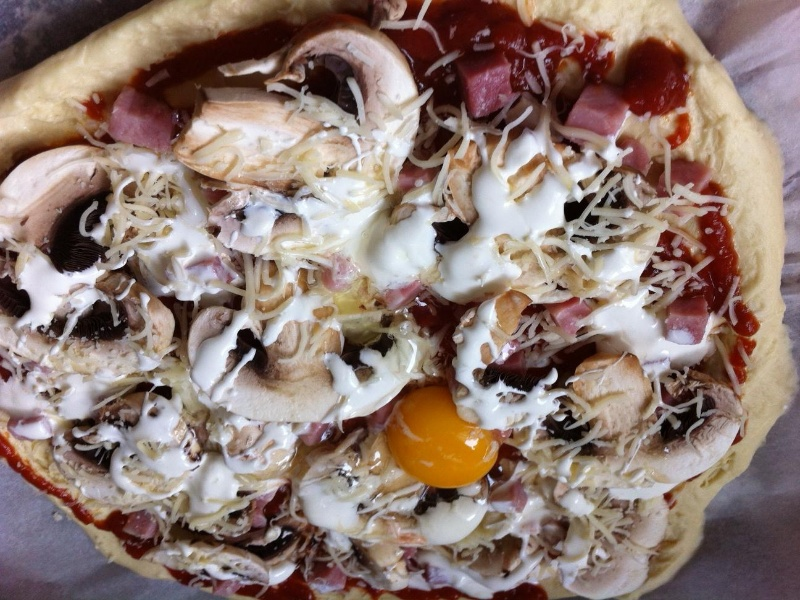champignon: (167, 21, 424, 215), (534, 348, 752, 491), (176, 299, 411, 429)
